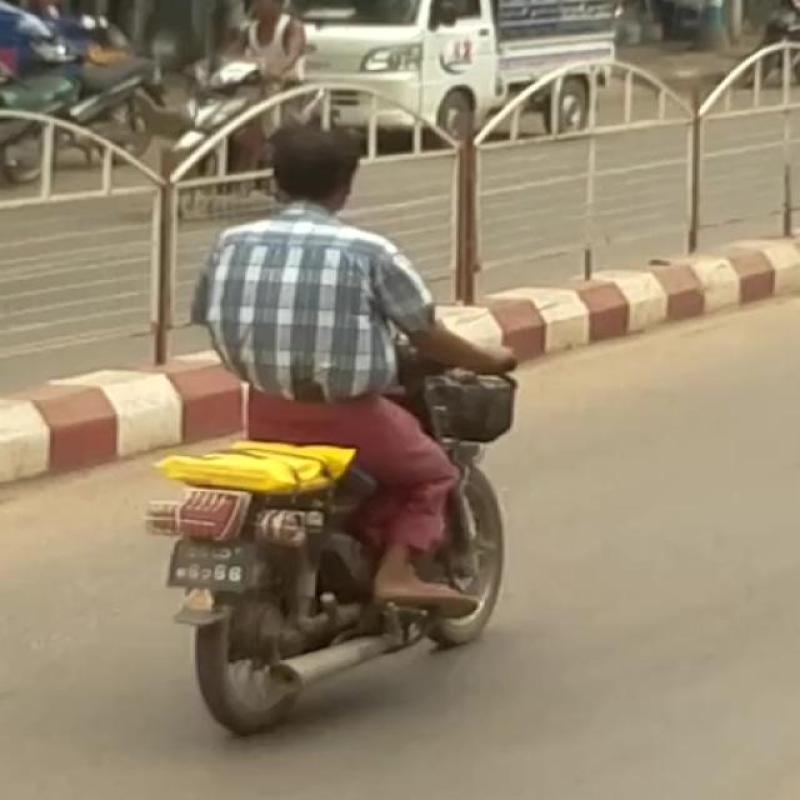nohelmet: (230, 90, 410, 231)
